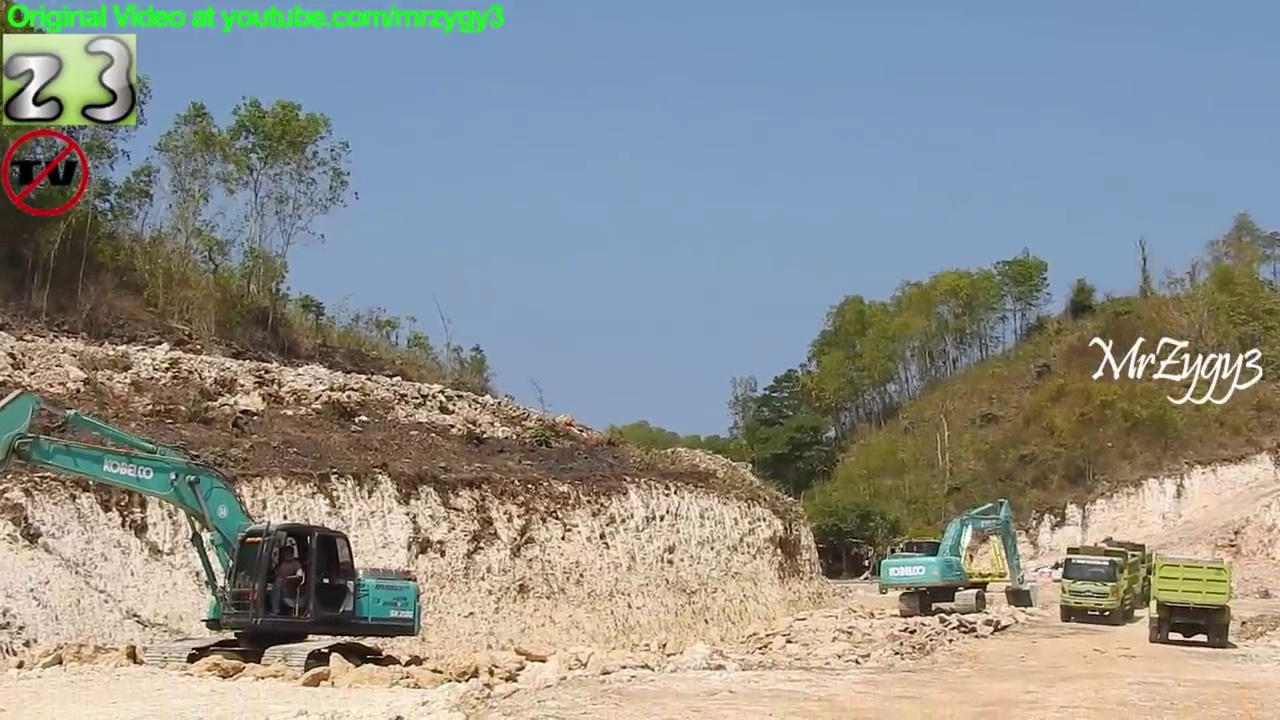excavator: (1, 379, 422, 689), (875, 495, 1038, 624)
truck: (1147, 550, 1233, 651), (1051, 545, 1141, 631), (1061, 536, 1151, 619)
